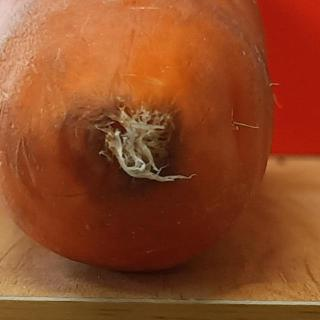carrot: (0, 0, 276, 277)
